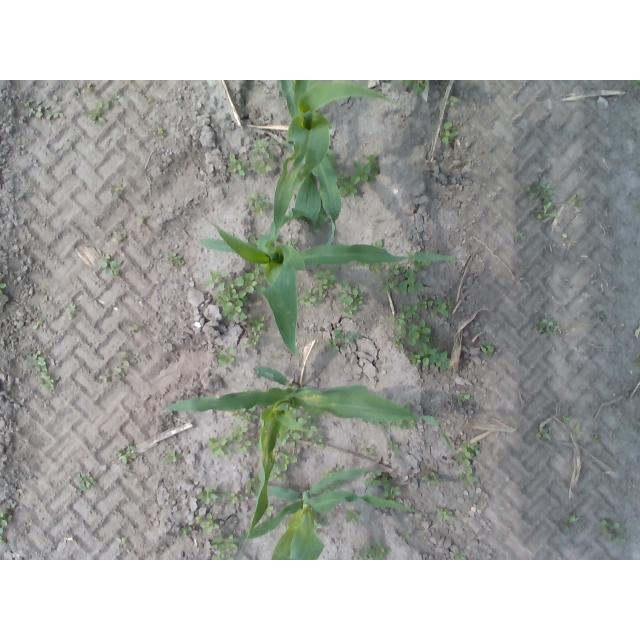Maize: (159, 364, 454, 560), (197, 215, 454, 357), (273, 80, 400, 245), (232, 465, 422, 560)
Weeds: (211, 270, 247, 326), (382, 267, 423, 296), (399, 316, 432, 349), (419, 293, 451, 319), (415, 343, 447, 367), (340, 284, 365, 313), (356, 153, 380, 183), (244, 315, 267, 345), (232, 272, 256, 300), (357, 542, 389, 560), (235, 476, 257, 500), (246, 193, 272, 213), (313, 268, 335, 291), (213, 535, 236, 557), (527, 183, 553, 202), (29, 105, 64, 119), (88, 99, 109, 121), (440, 122, 459, 146), (229, 155, 249, 177), (340, 176, 361, 196), (298, 286, 318, 306), (600, 520, 620, 540), (198, 513, 220, 531), (402, 80, 429, 94), (207, 438, 229, 455), (255, 158, 278, 174), (536, 317, 555, 336), (535, 203, 555, 221), (198, 488, 219, 505), (253, 139, 272, 157), (230, 424, 250, 441), (334, 329, 358, 343), (279, 453, 297, 471), (42, 375, 62, 390), (122, 350, 138, 368), (369, 471, 388, 486), (383, 483, 402, 498), (236, 437, 252, 454), (121, 449, 139, 464), (102, 255, 118, 270), (403, 305, 419, 320), (563, 515, 578, 531), (216, 355, 236, 366), (466, 465, 477, 485), (79, 473, 93, 488), (439, 507, 454, 519), (422, 472, 438, 483), (536, 427, 550, 439), (325, 342, 340, 353), (37, 358, 48, 373), (0, 514, 8, 534), (462, 446, 474, 459), (348, 510, 360, 522), (167, 451, 181, 460), (289, 434, 303, 443), (317, 291, 328, 302), (101, 370, 111, 382), (446, 96, 458, 106), (481, 343, 493, 353), (170, 253, 183, 262), (307, 427, 317, 438), (32, 322, 44, 331), (114, 186, 125, 195), (461, 395, 471, 404), (515, 232, 526, 240), (571, 194, 578, 206), (574, 425, 583, 434), (184, 526, 193, 535), (67, 305, 77, 312), (562, 414, 570, 422), (1, 282, 8, 291), (115, 369, 122, 376), (593, 432, 599, 440), (157, 126, 163, 134)
